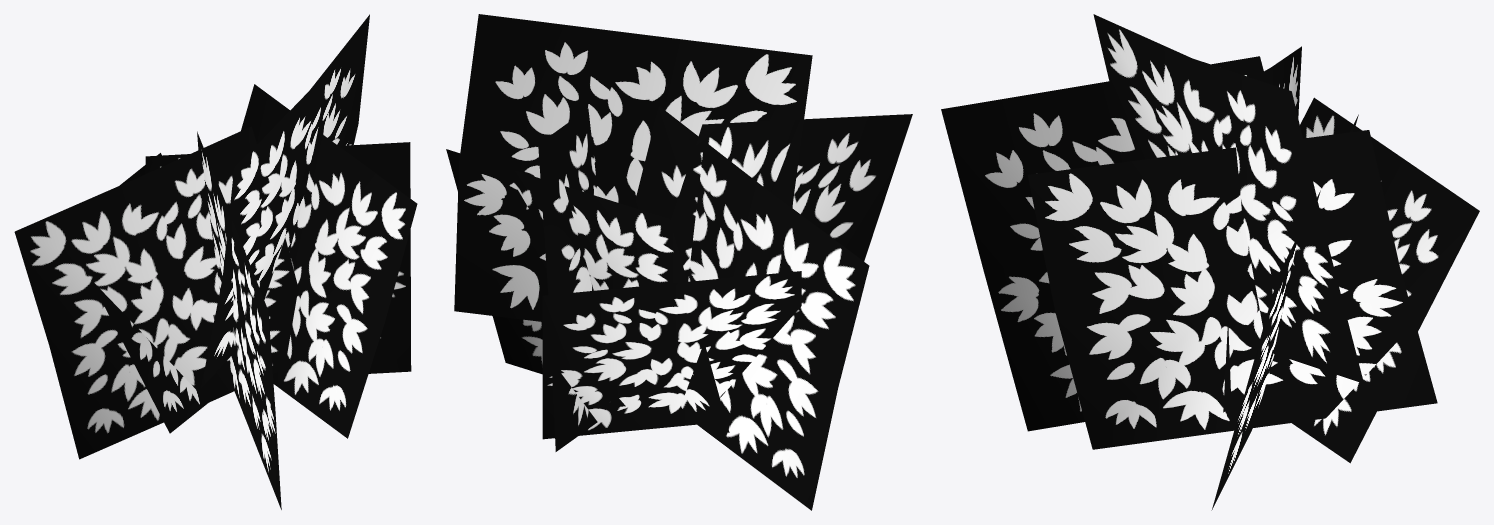
The model's file is P_DesertBushB02.obj.
3 views of the same model, side by side, from view 1: azimuth 30°, elevation 25°; view 2: azimuth 150°, elevation 25°; view 3: azimuth 270°, elevation 25° (orthographic). The views are drawn at different scales.
Size of the model in its own units: 3.73 by 3.43 by 3.65.
